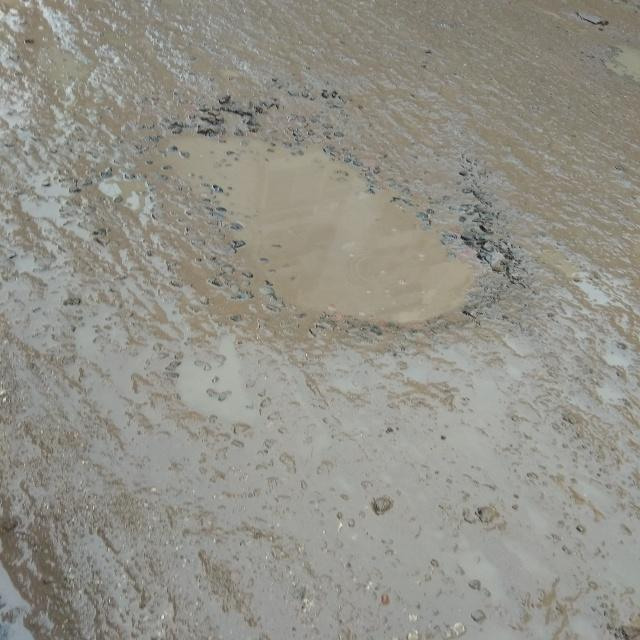Pothole: (218, 150, 470, 317)
